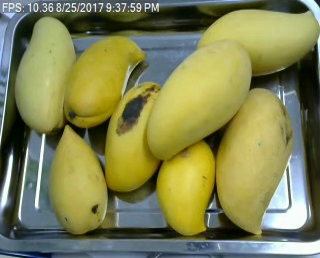Mango: (143, 40, 252, 163), (214, 85, 295, 232), (189, 6, 318, 80), (62, 28, 157, 126), (97, 75, 168, 197), (15, 13, 80, 136), (43, 122, 114, 233), (158, 139, 216, 238)
